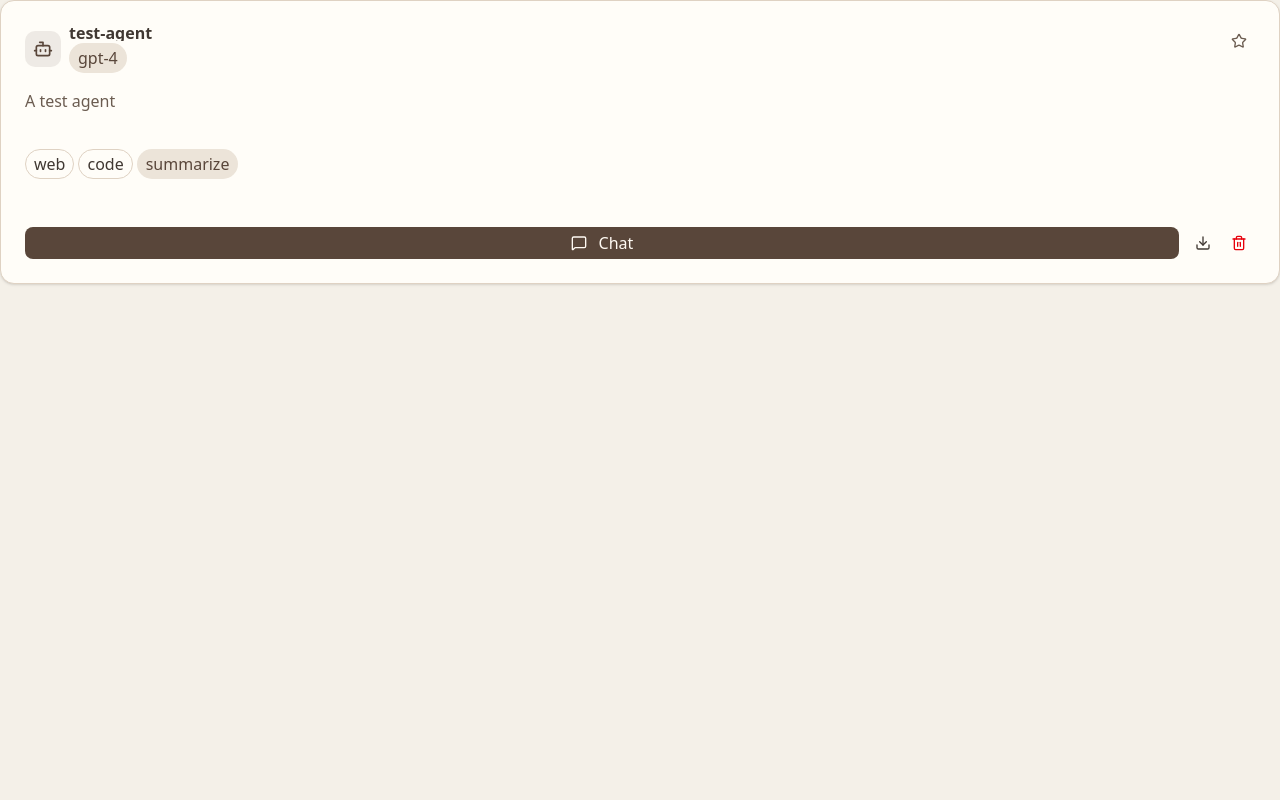
AgentCard › shows loading text on confirm button when delete is pending
Click the button with test id "agent-delete-button" at (1239, 243), box [1223,227,1255,259]
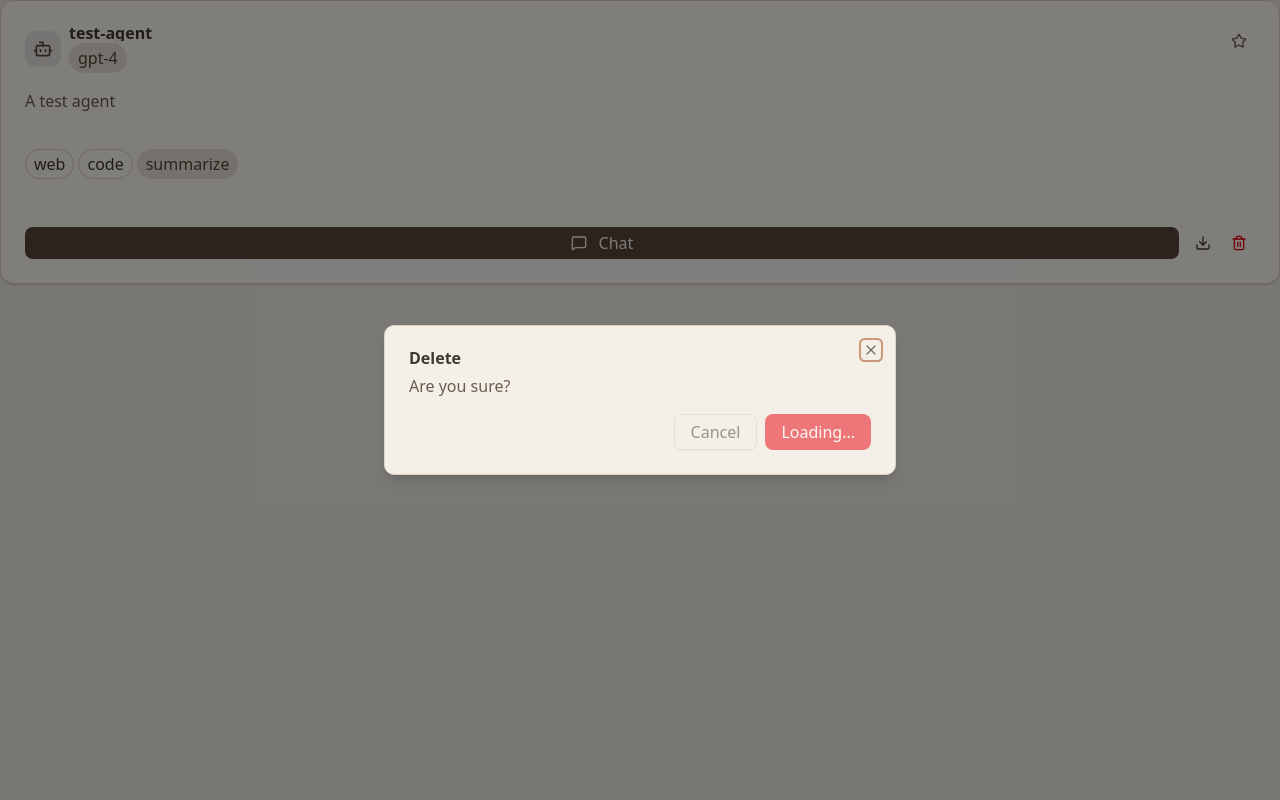
Expected: the dialog is shown, [384,325,896,475]
Expected: the button "Loading..." is shown, [765,414,871,450]
